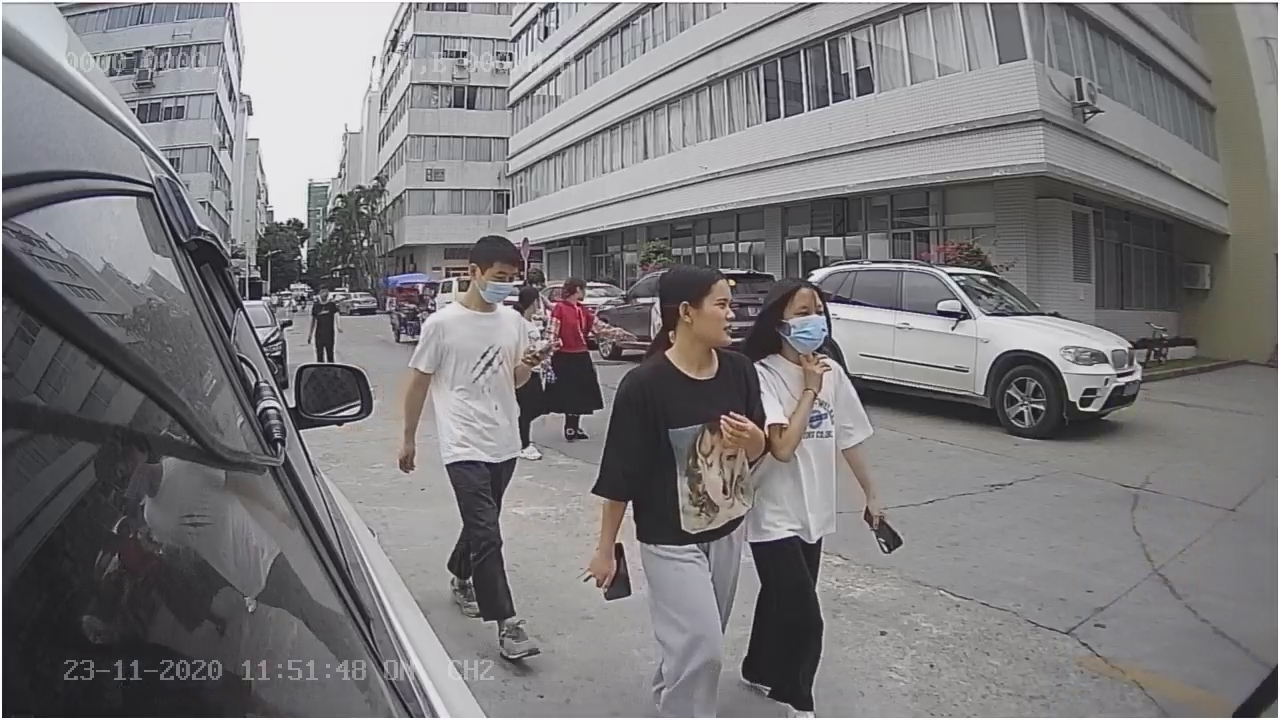person: (733, 255, 892, 717), (394, 236, 552, 661)
